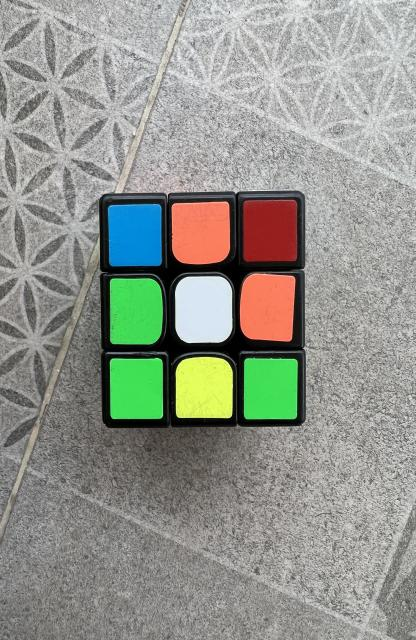Blue: (108, 204, 161, 266)
Green: (109, 278, 162, 344), (109, 358, 164, 419), (244, 358, 298, 420)
Orange: (239, 274, 296, 341), (171, 201, 230, 264)
Red: (243, 200, 297, 262)
White: (174, 276, 233, 344)
Yellow: (176, 356, 233, 419)
